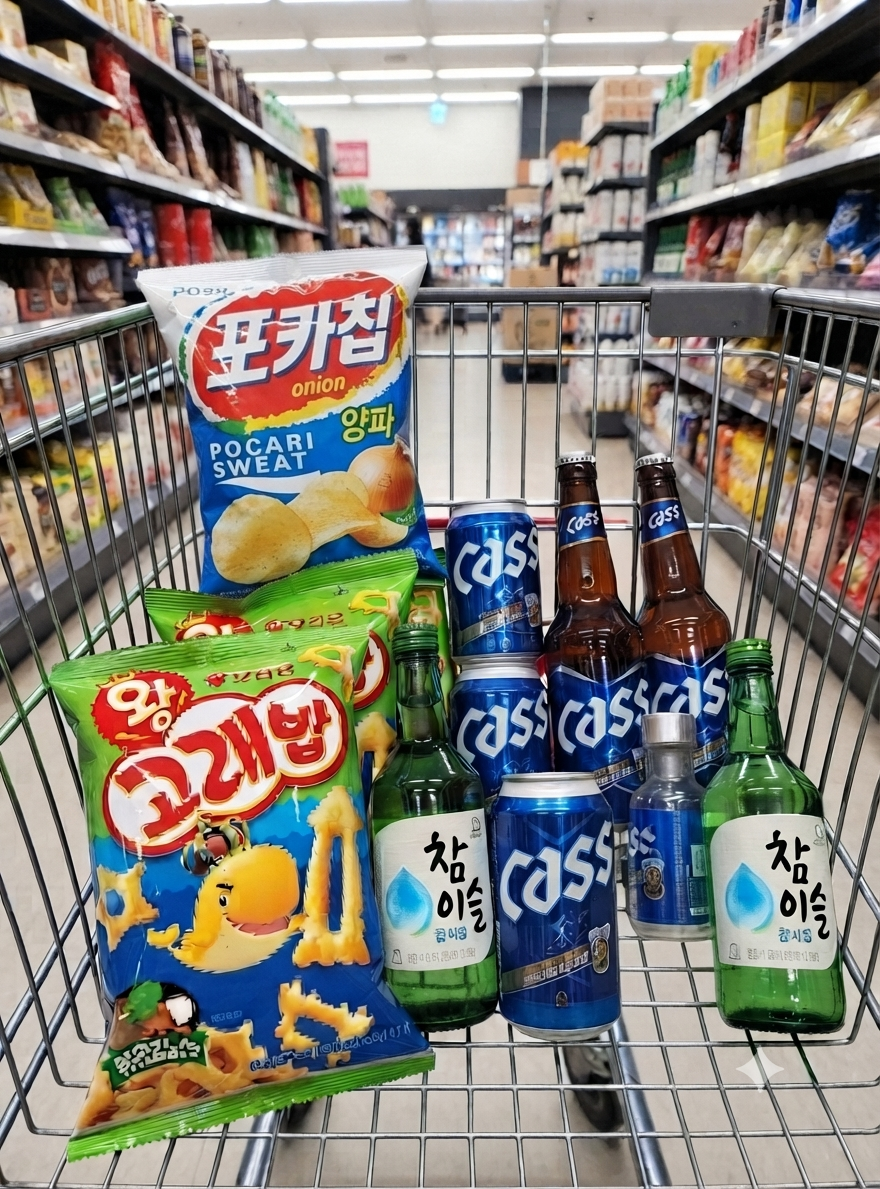beer-bottle: (616, 538, 743, 946), (536, 539, 655, 959)
beer-can: (488, 815, 623, 1140), (440, 617, 557, 886), (440, 470, 549, 738)
soju-bottle: (689, 711, 826, 1182), (385, 766, 504, 1182)
